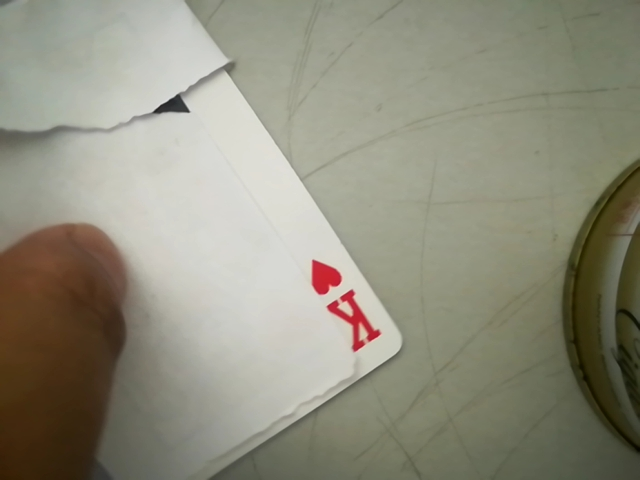hx k: (303, 248, 378, 360)
